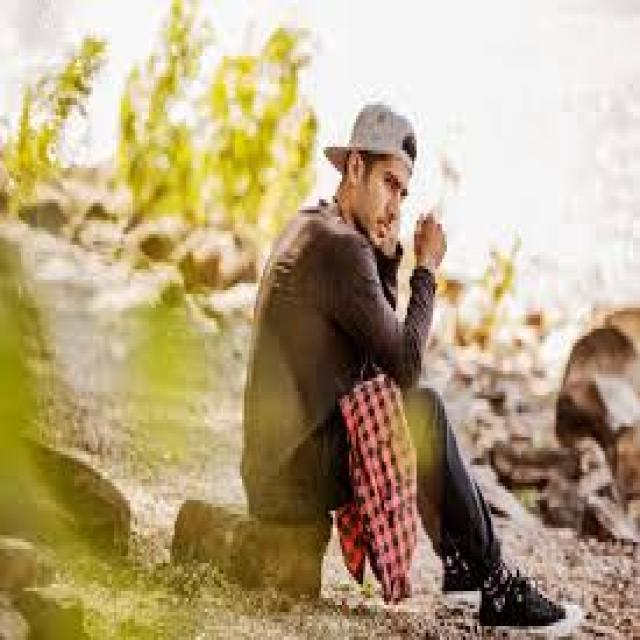cap: (321, 102, 419, 248)
